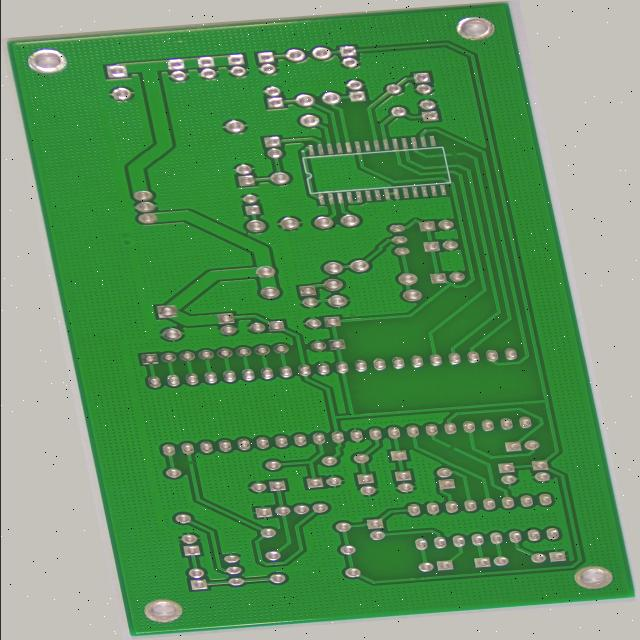open_circuit: (439, 459, 458, 469), (119, 454, 133, 463), (516, 154, 530, 160)
